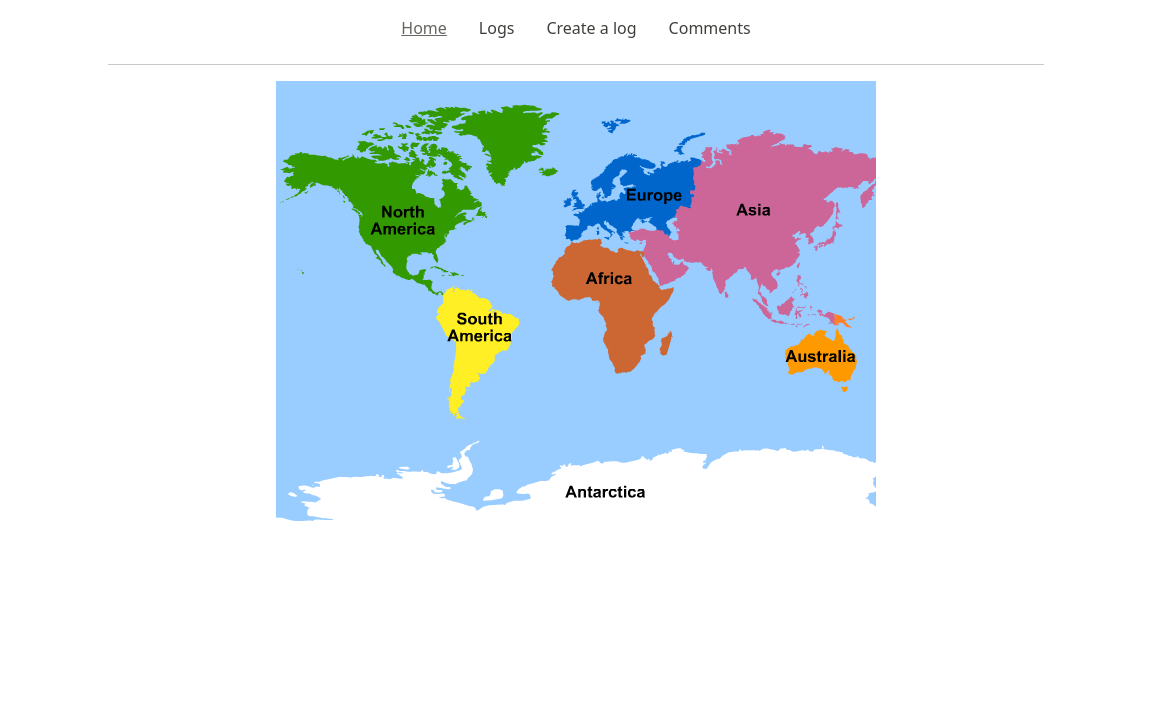
test 3: form validation
Click the link "Create a log" at (592, 28), box [546,17,637,39]
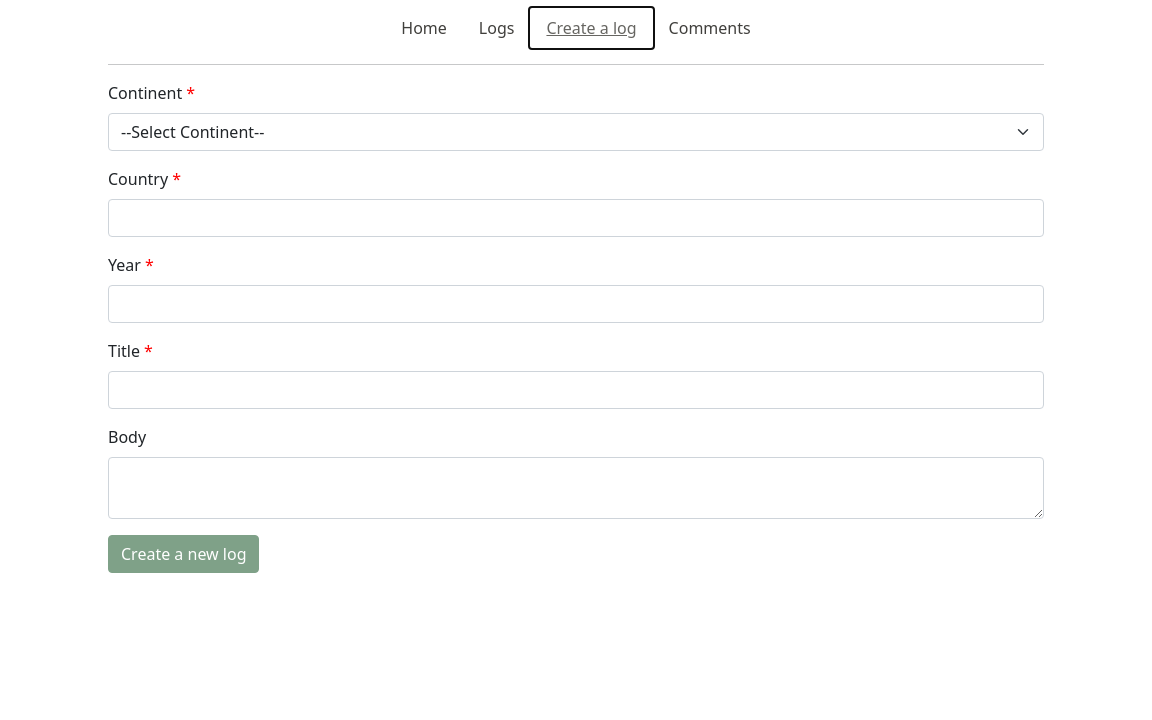
Click the button "Create a new log" at (184, 554), box [108,535,260,573]
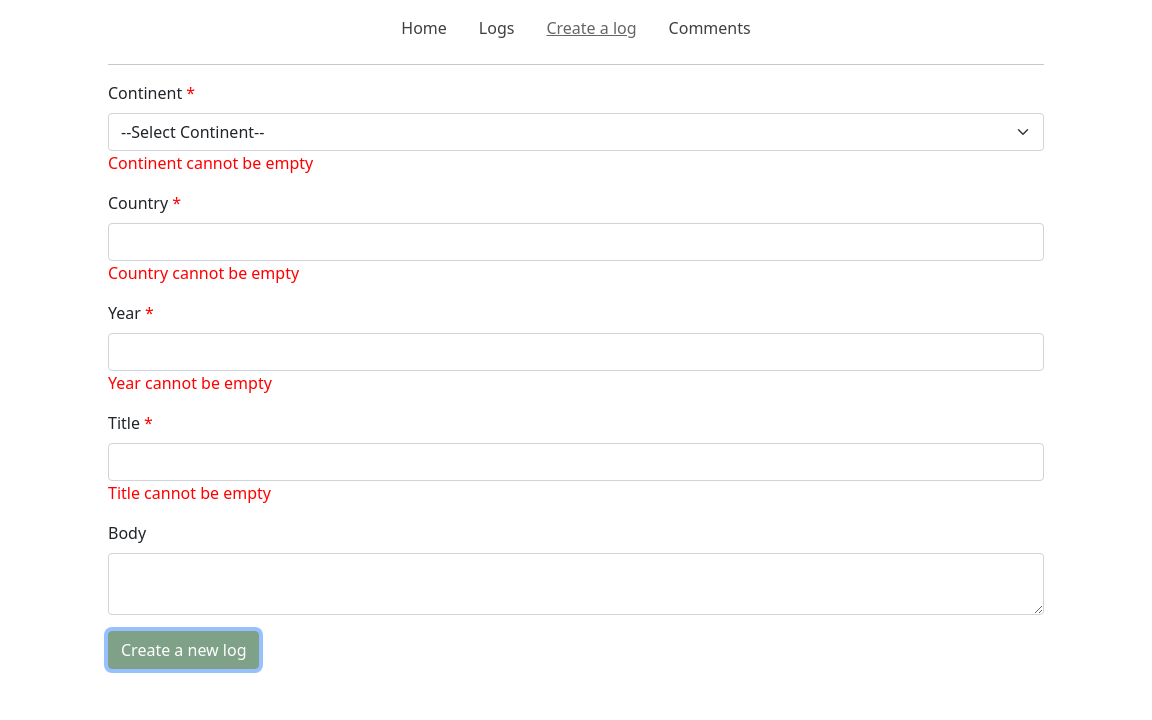
Result: the text "Continent cannot be empty" is shown at [108,152,313,174]
